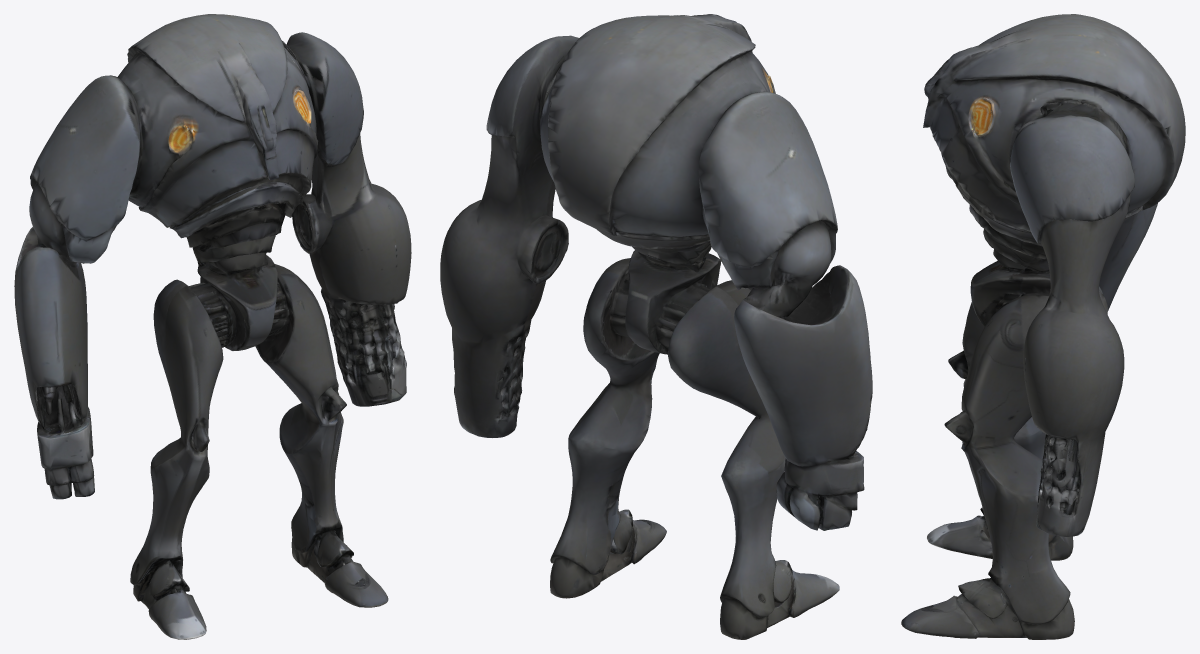
File: _0622170426_texture.fbx
The picture shows the model from 3 angles, left to right: view 1: azimuth 30°, elevation 25°; view 2: azimuth 150°, elevation 25°; view 3: azimuth 270°, elevation 25°; orthographic projection. The views are drawn at different scales.
Visible parts, largest first — view 1: Mesh_0; view 2: Mesh_0; view 3: Mesh_0.
Part boxes in pixels (bbox=[...]): Mesh_0: bbox=[14, 14, 411, 639]; Mesh_0: bbox=[440, 14, 872, 639]; Mesh_0: bbox=[901, 14, 1185, 639].
Bounding box in the file's own units: 147 × 200 × 92.28.
1 material, 1 textured.
